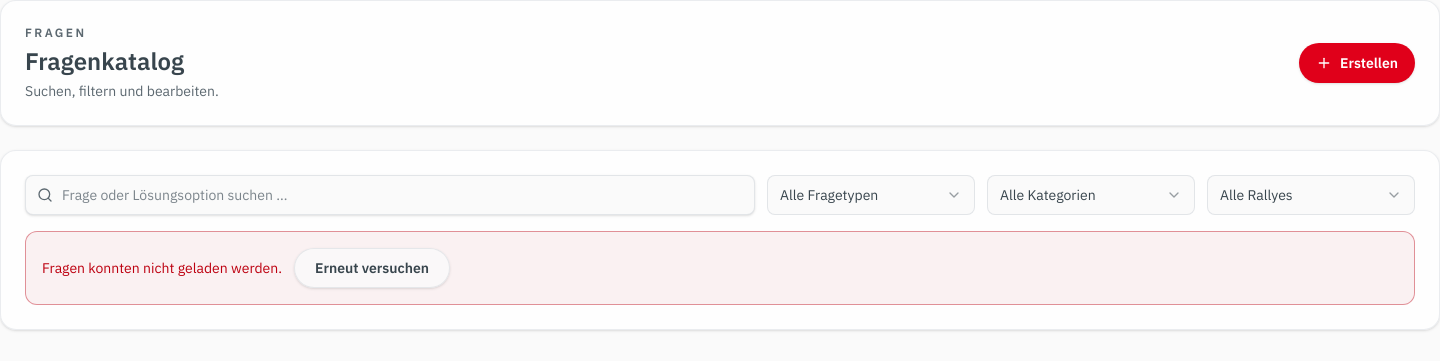
QuestionsManagement › offers retry when the initial question request failed
Check: the message reads "Fragen konnten nicht geladen werden.", box [42,259,282,277]
Click the button "Erneut versuchen" at (372, 268), box [294,248,450,288]
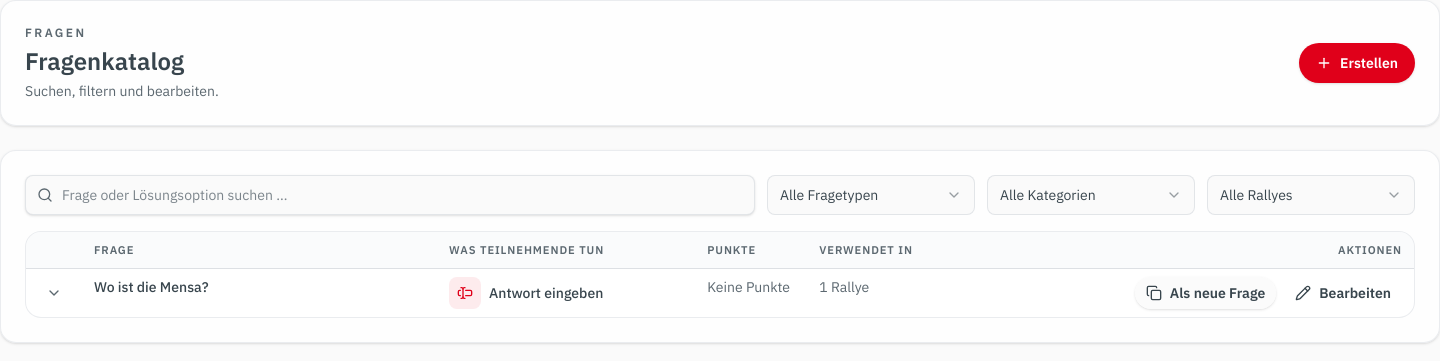
Check: the text "Wo ist die Mensa?" is shown, box [94,278,209,296]
